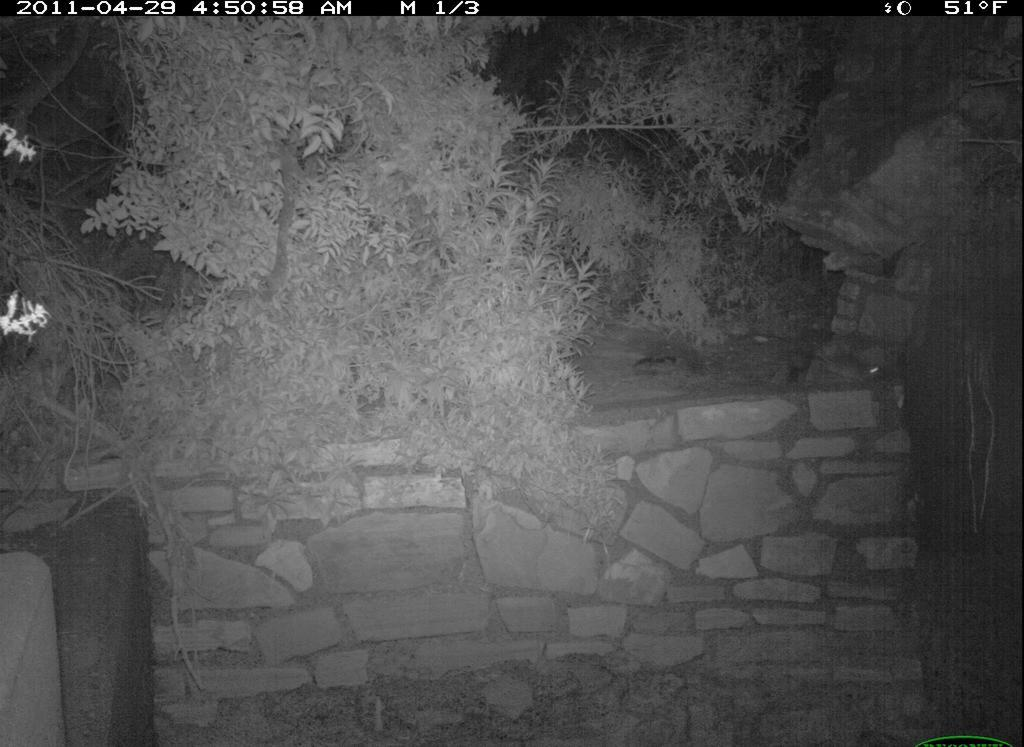rodent: (821, 351, 885, 388)
